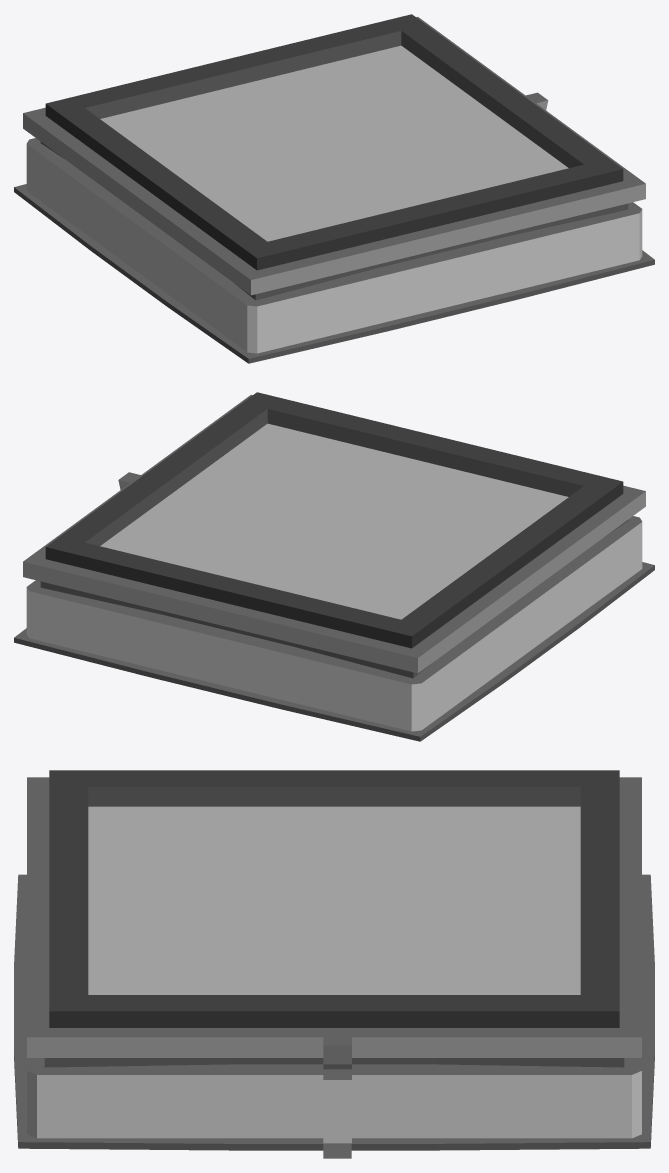
The model's file is hatch.fbx.
3 renders of one model, top to bottom at view 1: azimuth 30°, elevation 25°; view 2: azimuth 150°, elevation 25°; view 3: azimuth 270°, elevation 25°, orthographic. The views are drawn at different scales.
Visible parts, largest first — view 1: Hatch, HatchDoor; view 2: Hatch, HatchDoor; view 3: Hatch, HatchDoor.
Part boxes in pixels (bbox=[...]): Hatch: bbox=[14, 14, 654, 363]; HatchDoor: bbox=[100, 45, 568, 241]; Hatch: bbox=[14, 392, 654, 741]; HatchDoor: bbox=[100, 423, 568, 619]; Hatch: bbox=[14, 770, 654, 1158]; HatchDoor: bbox=[88, 806, 580, 994].
Size of the model in its own units: 20.8 by 20.2 by 4.32.
